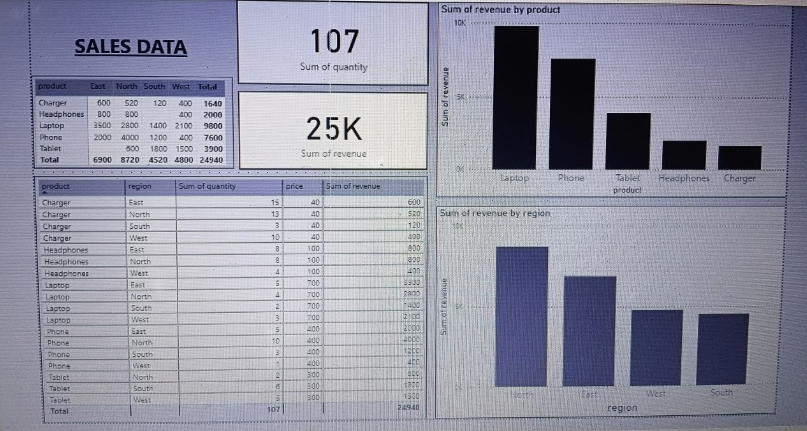

The dashboard page shown, as its layout file describes it:
{"tool":"powerbi","page":{"name":"Page 2","canvas":[1280,720],"ordinal":0},"visuals":[{"type":"card","fields":{"Values":["Sum(sales_data(in).quantity)"]},"box":[304,0,272,112],"z":0},{"type":"card","fields":{"Values":["Sum(sales_data(in).revenue)"]},"box":[624,0,272,112],"z":1000},{"type":"columnChart","fields":{"Category":["sales_data(in).product"],"Y":["Sum(sales_data(in).revenue)"]},"box":[192,400,464,320],"z":2000},{"type":"columnChart","fields":{"Category":["sales_data(in).region"],"Y":["Sum(sales_data(in).revenue)"]},"box":[672,400,400,320],"z":3000},{"type":"pivotTable","fields":{"Rows":["sales_data(in).product"],"Columns":["sales_data(in).region"],"Values":["Sum(sales_data(in).revenue)"]},"box":[928,0,336,176],"z":4000},{"type":"textbox","box":[32,32,240,64],"z":5000},{"type":"lineChart","fields":{"Y":["Sum(sales_data(in).revenue)"],"Category":["sales_data(in).region"],"Series":["sales_data(in).product"]},"box":[192,128,464,256],"z":6000},{"type":"barChart","fields":{"Category":["sales_data(in).region"],"Series":["sales_data(in).product"],"Y":["Sum(sales_data(in).revenue)"]},"box":[672,160,400,224],"z":9000},{"type":"advancedSlicerVisual","title":"Region","fields":{"Values":["sales_data(in).region"]},"box":[16,128,160,576],"z":9001},{"type":"advancedSlicerVisual","title":"Product","fields":{"Values":["sales_data(in).product"]},"box":[1088,176,176,528],"z":9002}]}

Visuals, with their boxes on the page's 1280x720 design canvas (x1, y1, x2, y2). These are canvas units, not pixel positions in the 807x431 screenshot, which may show the page scaled, cropped or inside an application window:
card - Sum(sales_data(in).quantity): [304,0,576,112]
card - Sum(sales_data(in).revenue): [624,0,896,112]
columnChart - sales_data(in).product x Sum(sales_data(in).revenue): [192,400,656,720]
columnChart - sales_data(in).region x Sum(sales_data(in).revenue): [672,400,1072,720]
pivotTable - sales_data(in).product x sales_data(in).region: [928,0,1264,176]
textbox: [32,32,272,96]
lineChart - Sum(sales_data(in).revenue) x sales_data(in).region: [192,128,656,384]
barChart - sales_data(in).region x sales_data(in).product: [672,160,1072,384]
"Region" advancedSlicerVisual: [16,128,176,704]
"Product" advancedSlicerVisual: [1088,176,1264,704]
